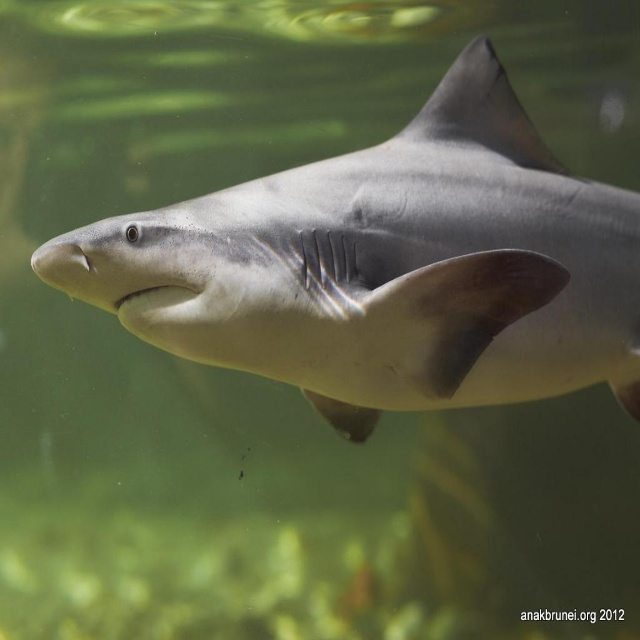Shark: (32, 31, 639, 427)
